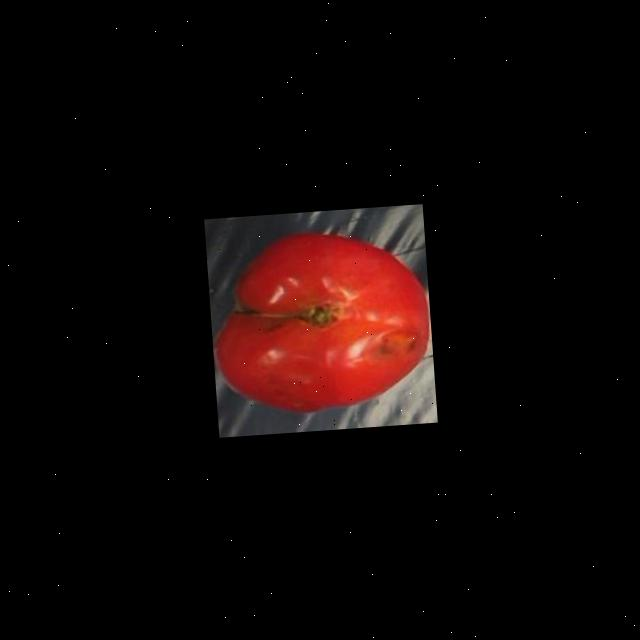tomato: (206, 217, 436, 421)
